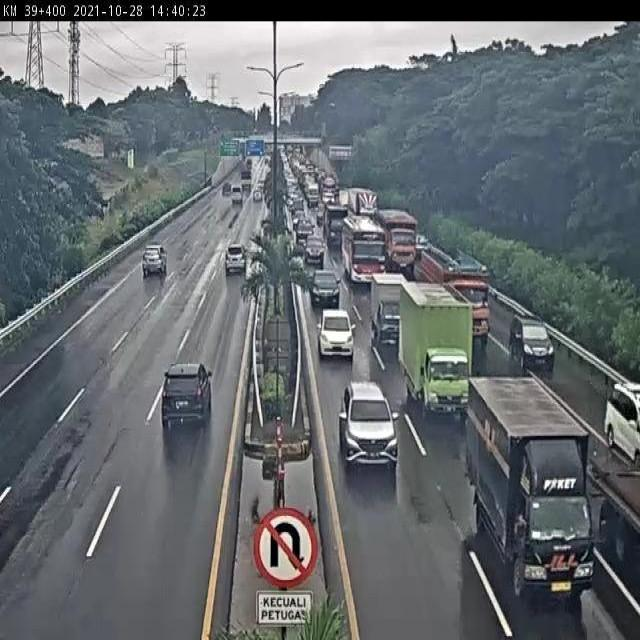bus-l-: (343, 213, 389, 288)
car: (338, 383, 399, 473), (162, 364, 213, 420), (511, 312, 556, 367), (316, 306, 354, 354), (221, 245, 252, 284), (308, 269, 340, 304), (137, 247, 164, 280), (304, 236, 326, 264)
truck-l-: (416, 241, 490, 343), (379, 210, 416, 266)
truck-m-: (466, 376, 596, 596), (401, 286, 476, 418)
truck-s-: (372, 272, 405, 341)
